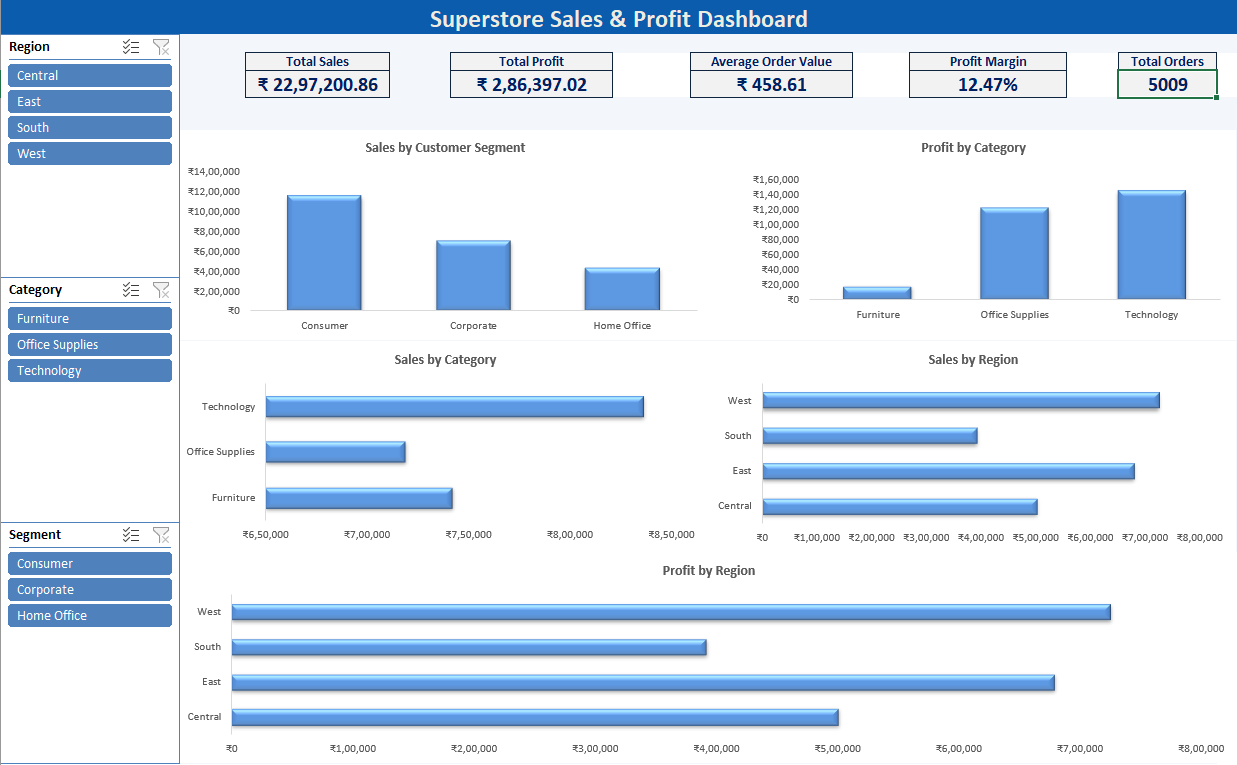

What the dashboard file says about the page in this screenshot:
{"tool":"powerbi","page":{"name":"Page 1","canvas":[1280,720],"ordinal":0},"visuals":[{"type":"cardVisual","fields":{"Data":["Sum(Sample-Superstore.Sales)"]},"box":[160,68.8,223.8,116.2],"z":0},{"type":"cardVisual","fields":{"Data":["Sum(Sample-Superstore.Profit)"]},"box":[383.8,68.8,224,116.2],"z":1000},{"type":"cardVisual","fields":{"Data":["Count(Sample-Superstore.Order ID)"]},"box":[607.9,68.6,224,116.4],"z":2000},{"type":"cardVisual","fields":{"Data":["Sample-Superstore.Average Order Value"]},"box":[1056.2,68.8,224,116.2],"z":3000},{"type":"cardVisual","fields":{"Data":["Sample-Superstore.Profit Margin"]},"box":[832.1,68.6,224,116.4],"z":4000},{"type":"clusteredColumnChart","title":"Sales by Category","fields":{"Category":["Sample-Superstore.Category"],"Y":["Sum(Sample-Superstore.Sales)"]},"box":[560,534.3,320,185.7],"z":5000},{"type":"clusteredBarChart","title":"Sales by Region","fields":{"Category":["Sample-Superstore.Region"],"Y":["Sum(Sample-Superstore.Sales)"]},"box":[560,348.6,320,185.7],"z":6000},{"type":"clusteredColumnChart","title":"Sales by Customer Segment","fields":{"Category":["Sample-Superstore.Segment"],"Y":["Sum(Sample-Superstore.Sales)"]},"box":[880,534.3,400,185.7],"z":7000},{"type":"textbox","box":[0,0,1280,68.8],"z":8000},{"type":"slicer","fields":{"Values":["Sample-Superstore.Region"]},"box":[0,232.9,160,162.9],"z":9000},{"type":"slicer","fields":{"Values":["Sample-Superstore.Category"]},"box":[0,396.2,160,162.5],"z":10000},{"type":"slicer","fields":{"Values":["Sample-Superstore.Segment"]},"box":[0,557.5,160,162.5],"z":11000},{"type":"slicer","fields":{"Values":["Sample-Superstore.Order Date"]},"box":[0,68.8,160,163.8],"z":12000},{"type":"clusteredColumnChart","title":"Profit by Category","fields":{"Category":["Sample-Superstore.Category"],"Y":["Sum(Sample-Superstore.Profit)"]},"box":[160,185,400,267.5],"z":13000},{"type":"clusteredBarChart","title":"Profit by Region","fields":{"Category":["Sample-Superstore.Region"],"Y":["Sum(Sample-Superstore.Profit)"]},"box":[160,453.8,400,266.2],"z":14000},{"type":"clusteredBarChart","title":"Top 5 Products by Sales","fields":{"Category":["Sample-Superstore.Product Name"],"Y":["Sum(Sample-Superstore.Sales)"]},"box":[880,348.6,400,185.7],"z":15000},{"type":"lineChart","title":"Sales & Profit Trend by Month","fields":{"Y":["Sum(Sample-Superstore.Sales)"],"Category":["Sample-Superstore.Order Date.Variation.Date Hierarchy.Month"],"Y2":["Sum(Sample-Superstore.Profit)"]},"box":[560,185.7,720,162.9],"z":16000}]}

Visuals, with their boxes on the page's 1280x720 design canvas (x1, y1, x2, y2). These are canvas units, not pixel positions in the 1237x765 screenshot, which may show the page scaled, cropped or inside an application window:
cardVisual - Sum(Sample-Superstore.Sales): bbox=(160, 69, 384, 185)
cardVisual - Sum(Sample-Superstore.Profit): bbox=(384, 69, 608, 185)
cardVisual - Count(Sample-Superstore.Order ID): bbox=(608, 69, 832, 185)
cardVisual - Sample-Superstore.Average Order Value: bbox=(1056, 69, 1280, 185)
cardVisual - Sample-Superstore.Profit Margin: bbox=(832, 69, 1056, 185)
"Sales by Category" clusteredColumnChart: bbox=(560, 534, 880, 720)
"Sales by Region" clusteredBarChart: bbox=(560, 349, 880, 534)
"Sales by Customer Segment" clusteredColumnChart: bbox=(880, 534, 1280, 720)
textbox: bbox=(0, 0, 1280, 69)
slicer - Sample-Superstore.Region: bbox=(0, 233, 160, 396)
slicer - Sample-Superstore.Category: bbox=(0, 396, 160, 559)
slicer - Sample-Superstore.Segment: bbox=(0, 558, 160, 720)
slicer - Sample-Superstore.Order Date: bbox=(0, 69, 160, 233)
"Profit by Category" clusteredColumnChart: bbox=(160, 185, 560, 452)
"Profit by Region" clusteredBarChart: bbox=(160, 454, 560, 720)
"Top 5 Products by Sales" clusteredBarChart: bbox=(880, 349, 1280, 534)
"Sales & Profit Trend by Month" lineChart: bbox=(560, 186, 1280, 349)
